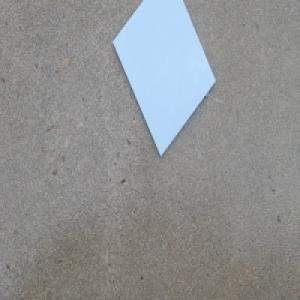PaintChip: (111, 0, 216, 159)
